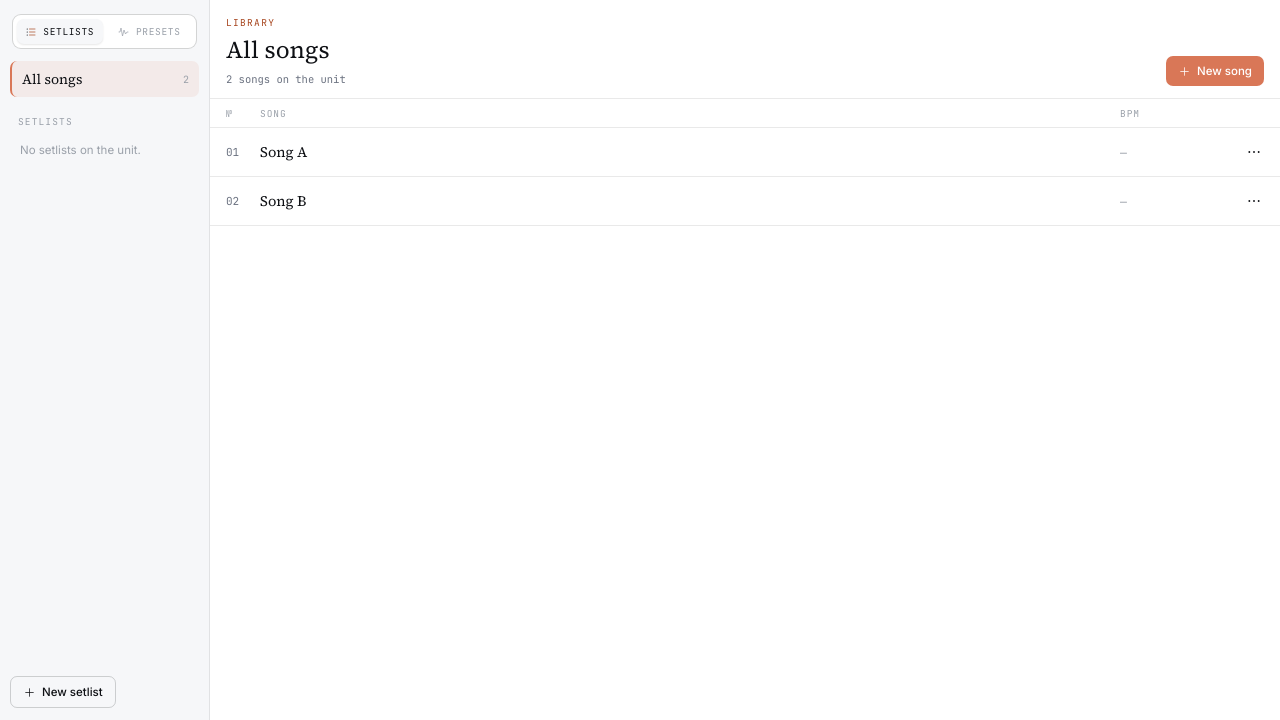
Test case: SongsView — Presets axis › flips to the Presets axis and lists the unit's presets with per-preset song counts
This screenshot has width=1280, height=720.
Expected: the button "New song" is shown, [1166, 56, 1264, 86]
Click the radio button labelled "Presets". click: coordinates (149, 32)
box: [106, 19, 192, 44]
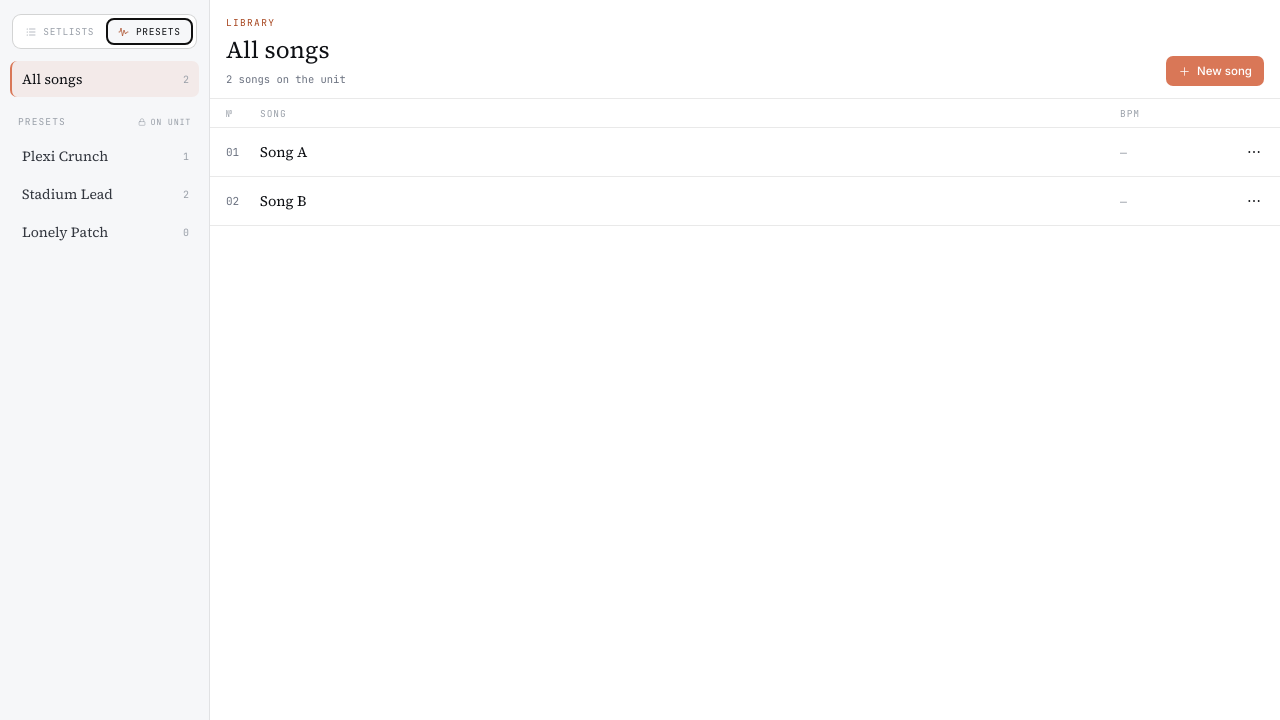
Expected: the text "Plexi Crunch" is shown, [22, 146, 108, 166]
Expected: the text "Stadium Lead" is shown, [22, 184, 113, 204]
Expected: the text "Lonely Patch" is shown, [22, 222, 108, 242]
